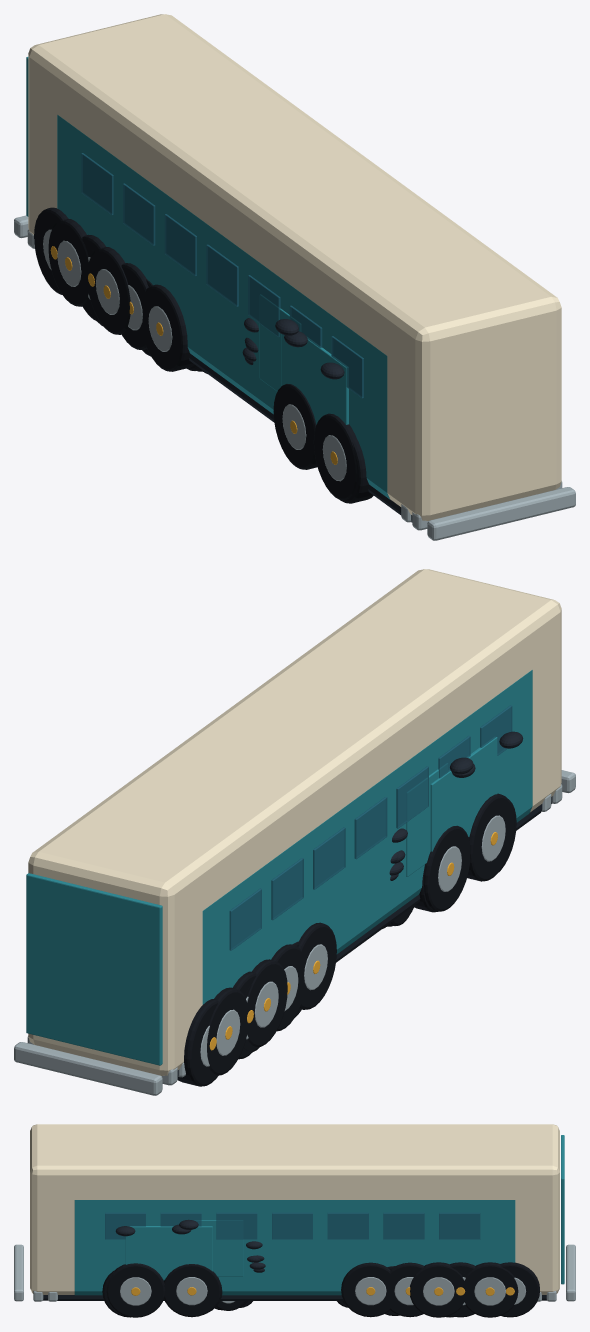
The model's file is kaki-catastrophe-vehicles-v2.glb.
3 views of the same model, one above another, from view 1: azimuth 30°, elevation 25°; view 2: azimuth 150°, elevation 25°; view 3: azimuth 270°, elevation 25° (orthographic). The views are drawn at different scales.
Parts seen in each view (by area): view 1: KakiCat_Traffic_SemiTrailer-cargo, KakiCat_Traffic_Bus-bus-body, left-door.010, front-bumper.012, left-rear-1-wheel-tire.004, left-rear-2-wheel-tire, left-rear-2-wheel-tire.001, left-rear-1-wheel-tire.002, left-front-wheel-tire.013, left-door.011, KakiCat_Traffic_Bus-window-L-1, KakiCat_Traffic_Bus-window-L-3 (+14 smaller); view 2: KakiCat_Traffic_SemiTrailer-cargo, KakiCat_Traffic_Bus-bus-body, trunk.009, left-door.010, rear-bumper.012, left-rear-1-wheel-tire.004, left-rear-1-wheel-tire.002, left-door.011, left-front-wheel-tire.013, left-rear-2-wheel-tire.001, left-front-wheel-tire.012, left-rear-2-wheel-tire (+13 smaller); view 3: KakiCat_Traffic_SemiTrailer-cargo, KakiCat_Traffic_Bus-bus-body, right-door.010, right-rear-1-wheel-tire.004, right-door.011, right-rear-1-wheel-tire.002, right-rear-2-wheel-tire.001, right-front-wheel-tire.013, right-rear-2-wheel-tire, KakiCat_Traffic_Bus-window-R-0, KakiCat_Traffic_Bus-window-R-1, KakiCat_Traffic_Bus-window-R-2 (+17 smaller).
Boxes of the visible parts, <box> form: KakiCat_Traffic_SemiTrailer-cargo: <box>28,14,561,520</box>; KakiCat_Traffic_Bus-bus-body: <box>57,115,389,499</box>; left-door.010: <box>281,334,348,424</box>; front-bumper.012: <box>427,487,575,540</box>; left-rear-1-wheel-tire.004: <box>313,413,357,500</box>; left-rear-2-wheel-tire: <box>141,284,194,371</box>; left-rear-2-wheel-tire.001: <box>87,247,130,334</box>; left-rear-1-wheel-tire.002: <box>273,384,317,469</box>; left-front-wheel-tire.013: <box>48,218,89,306</box>; left-door.011: <box>259,294,300,391</box>; KakiCat_Traffic_Bus-window-L-1: <box>123,183,155,245</box>; KakiCat_Traffic_Bus-window-L-3: <box>206,244,238,306</box>; KakiCat_Traffic_SemiTrailer-cargo: <box>28,569,561,1075</box>; KakiCat_Traffic_Bus-bus-body: <box>202,670,532,1004</box>; trunk.009: <box>26,873,162,1065</box>; left-door.010: <box>430,737,497,851</box>; rear-bumper.012: <box>14,1042,162,1095</box>; left-rear-1-wheel-tire.004: <box>467,793,514,881</box>; left-rear-1-wheel-tire.002: <box>423,825,470,911</box>; left-door.011: <box>406,763,447,876</box>; left-front-wheel-tire.013: <box>207,987,248,1075</box>; left-rear-2-wheel-tire.001: <box>246,959,287,1046</box>; left-front-wheel-tire.012: <box>177,999,218,1086</box>; left-rear-2-wheel-tire: <box>298,922,336,1009</box>; KakiCat_Traffic_SemiTrailer-cargo: <box>30,1124,559,1294</box>; KakiCat_Traffic_Bus-bus-body: <box>74,1200,515,1295</box>; right-door.010: <box>125,1226,212,1279</box>; right-rear-1-wheel-tire.004: <box>106,1263,165,1317</box>; right-door.011: <box>195,1220,243,1276</box>; right-rear-1-wheel-tire.002: <box>164,1264,221,1317</box>; right-rear-2-wheel-tire.001: <box>410,1262,465,1317</box>; right-front-wheel-tire.013: <box>463,1262,518,1317</box>; right-rear-2-wheel-tire: <box>341,1262,396,1317</box>; KakiCat_Traffic_Bus-window-R-0: <box>439,1212,480,1239</box>; KakiCat_Traffic_Bus-window-R-1: <box>383,1212,424,1239</box>; KakiCat_Traffic_Bus-window-R-2: <box>327,1212,368,1239</box>.
Bounding box in the file's own units: 3.36 × 3.6 × 12.42.
